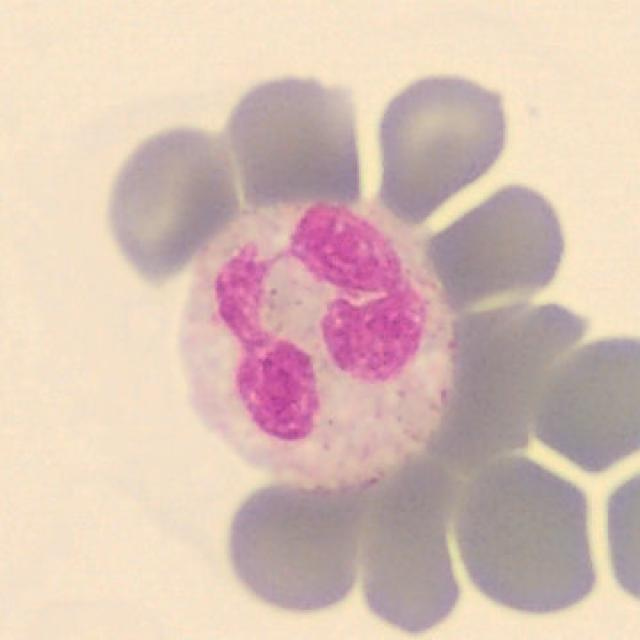Neutrofilo segmentado: (176, 199, 459, 498)
